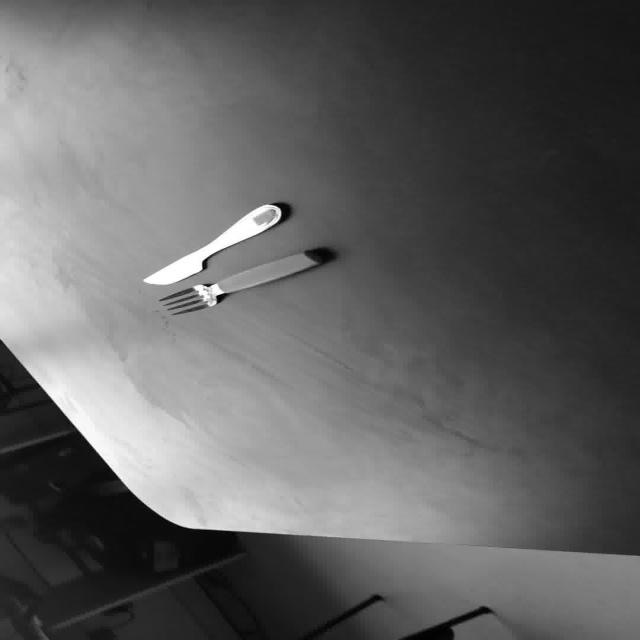fork: (157, 247, 328, 315)
knife fork: (141, 202, 282, 285), (157, 247, 327, 315)
